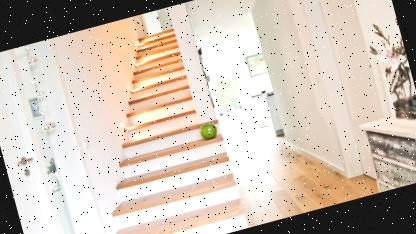stair: (59, 18, 249, 234)
